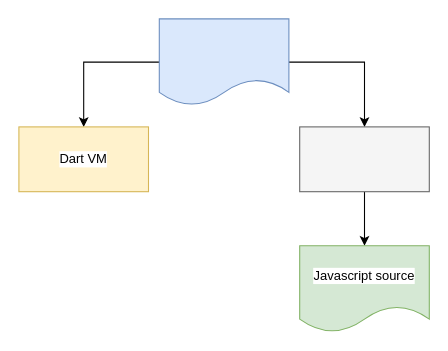
Image size: 448x351. Some labels were removed from this diagram. The centre of each missing label's shape, as x and y in pixels:
Dart Source: [223,61]
dart2js: [364,159]
